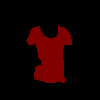t-shirt: (26, 24, 72, 83)
